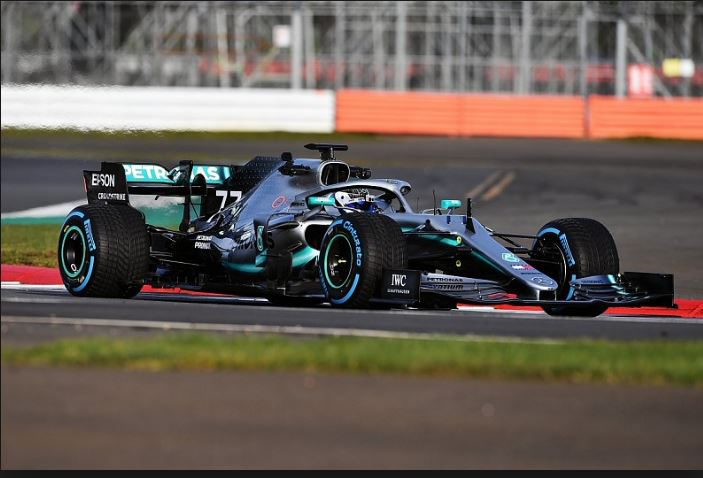F1 Car: (54, 137, 682, 315)
